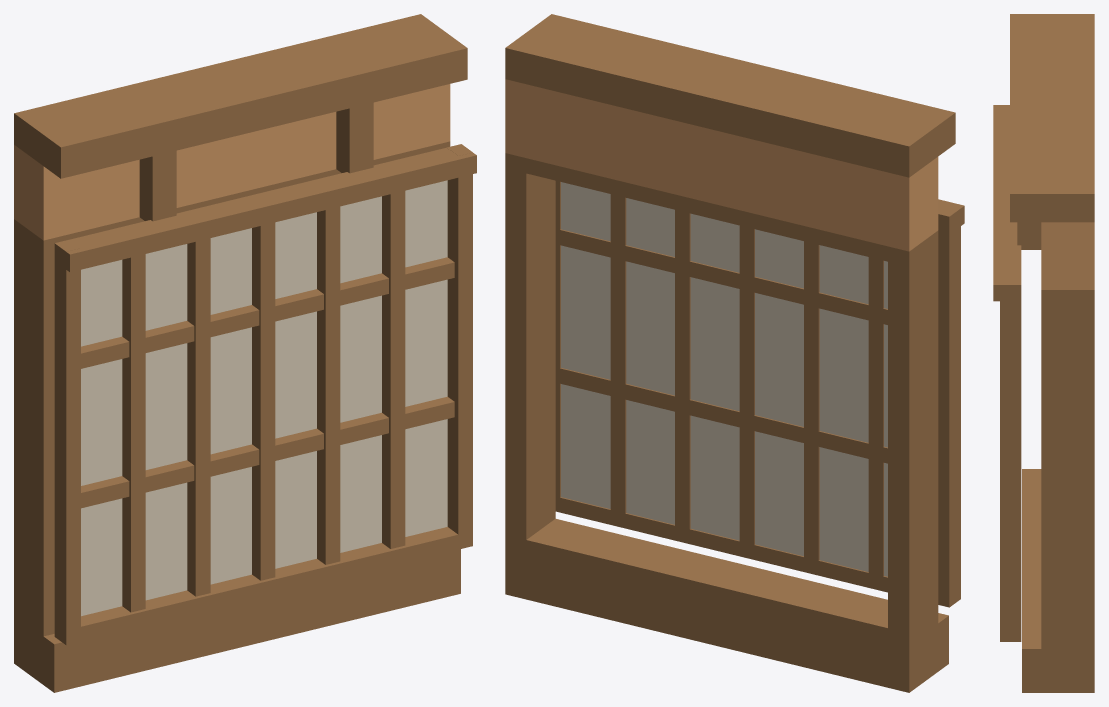
The model's file is Wall Door.glb.
3 renders of one model, left to right at view 1: azimuth 30°, elevation 25°; view 2: azimuth 150°, elevation 25°; view 3: azimuth 270°, elevation 25°, orthographic. The views are drawn at different scales.
Visible parts, largest first — view 1: Door, Wall_Door; view 2: Wall_Door, Door; view 3: Wall_Door, Door.
Boxes of the visible parts, left/top/right/bottom form: Door: left=54, top=144, right=476, bottom=645; Wall_Door: left=14, top=14, right=467, bottom=692; Wall_Door: left=505, top=14, right=955, bottom=692; Door: left=555, top=181, right=964, bottom=607; Wall_Door: left=1010, top=14, right=1094, bottom=692; Door: left=993, top=105, right=1021, bottom=641.
Size of the model in its own units: 4 by 5.17 by 0.9505.
Materials: 2 (1 with a texture image).
